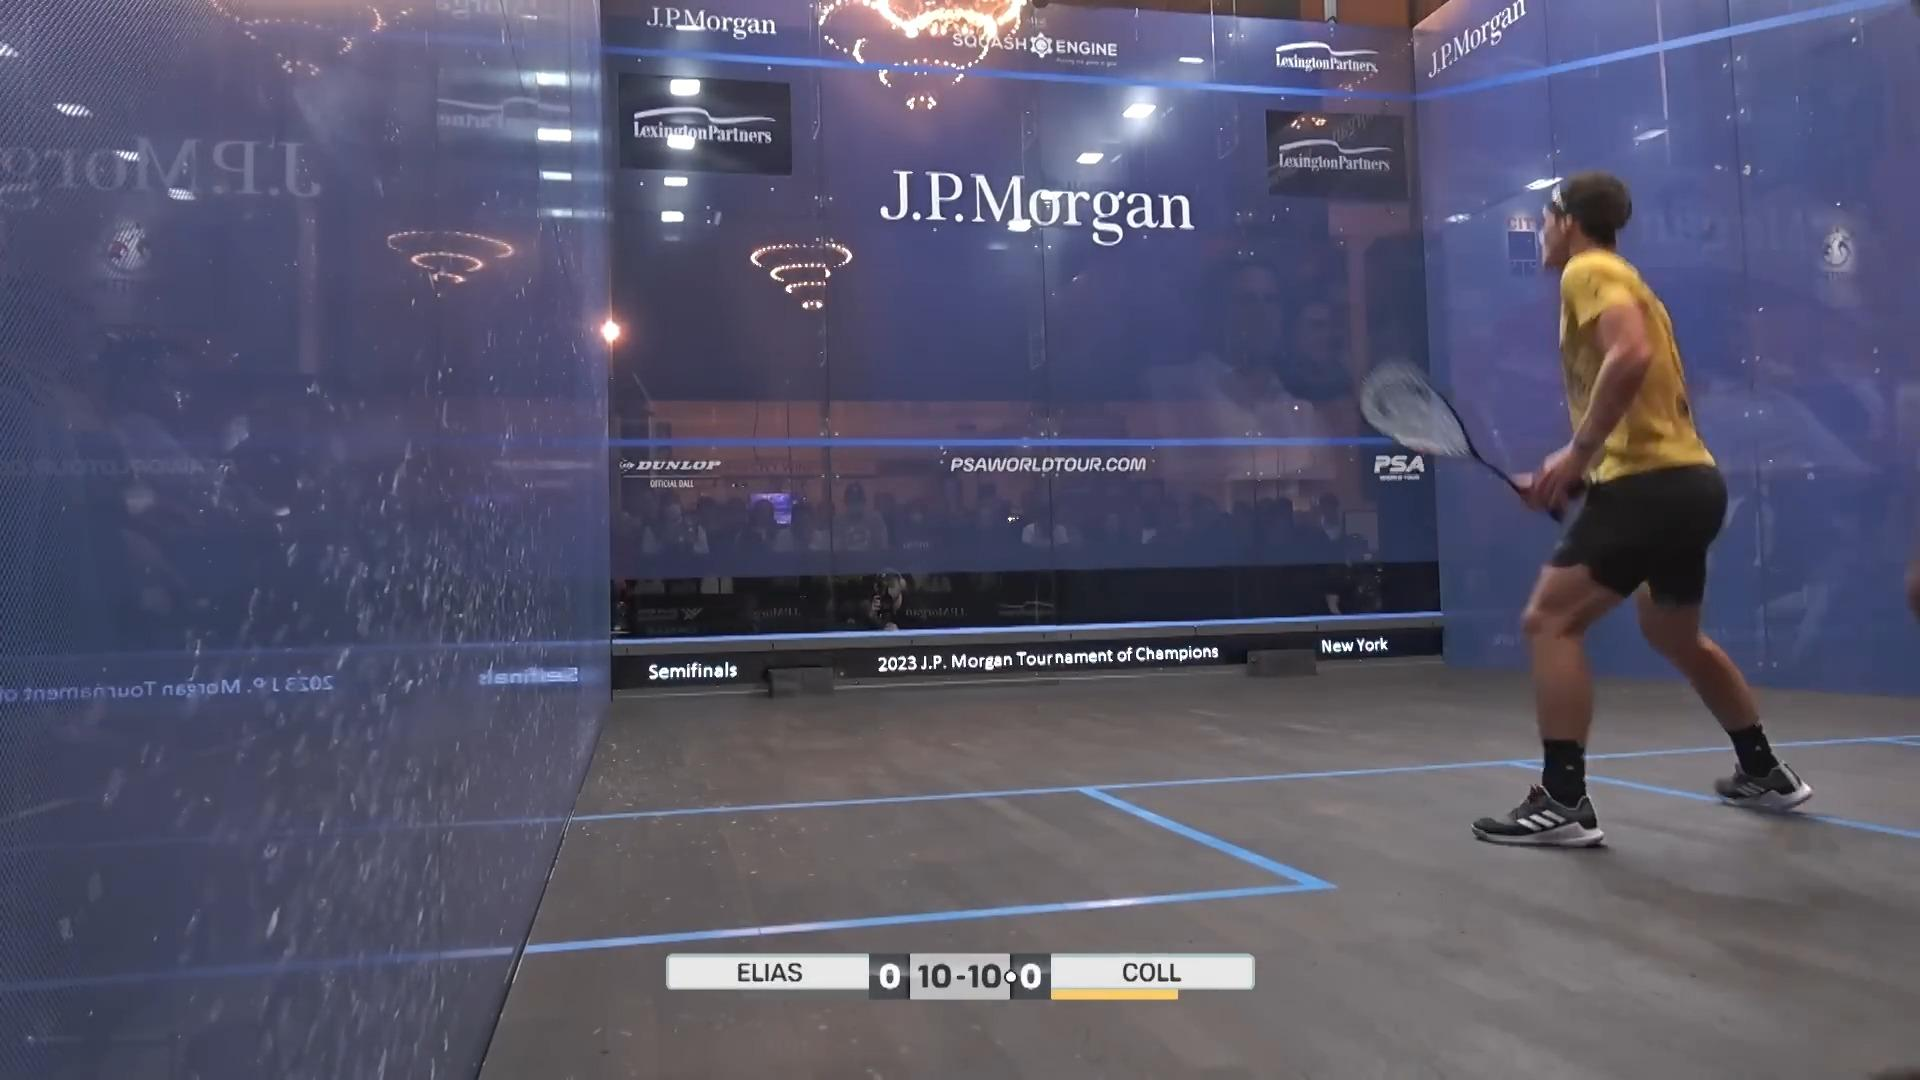Racket: (1356, 340, 1540, 502)
